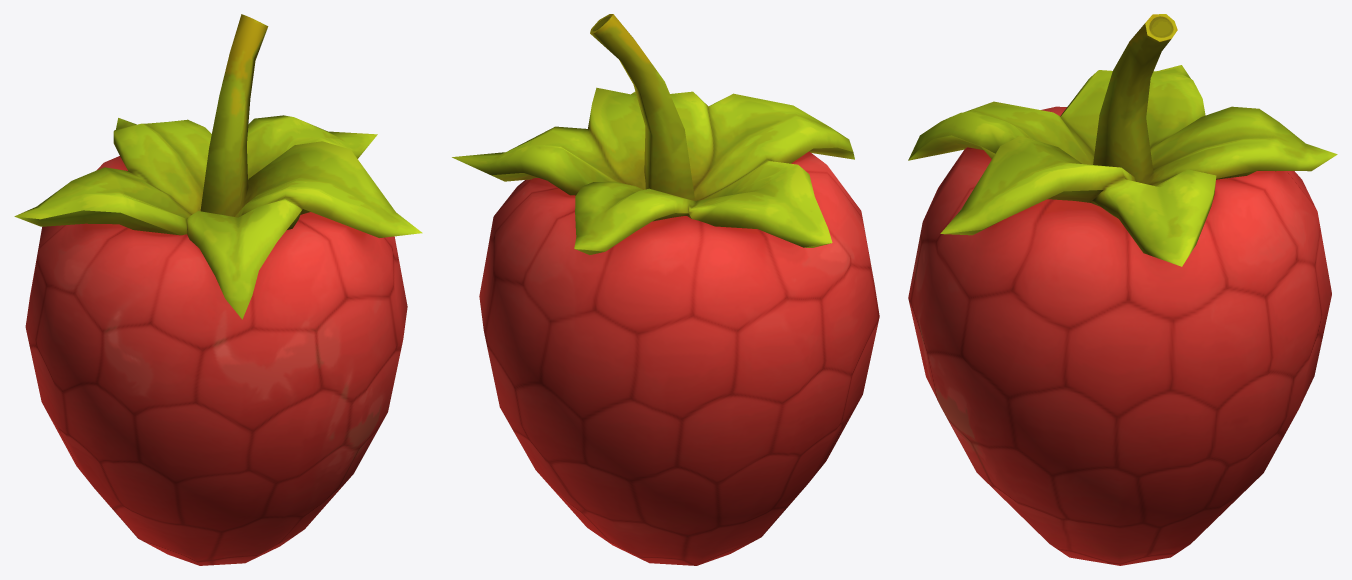
File: SM_RaspberryB.fbx
3 views of the same model, side by side, from view 1: azimuth 30°, elevation 25°; view 2: azimuth 150°, elevation 25°; view 3: azimuth 270°, elevation 25° (orthographic). The views are drawn at different scales.
Parts seen in each view (by area): view 1: SM_RaspberryB; view 2: SM_RaspberryB; view 3: SM_RaspberryB.
Part boxes in pixels (<box>): SM_RaspberryB: <box>14,14,422,565</box>; SM_RaspberryB: <box>452,14,879,565</box>; SM_RaspberryB: <box>908,14,1337,565</box>.
Bounding box in the file's own units: 6.07 × 8.14 × 5.67.
